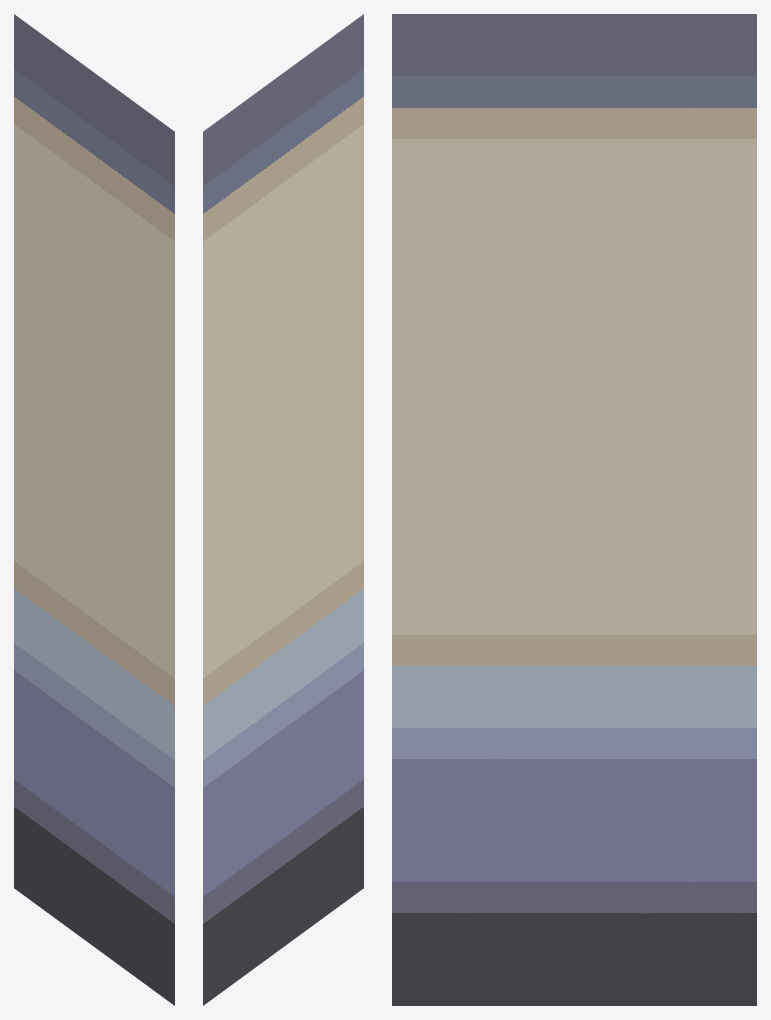
3 views of the same model, side by side, from view 1: azimuth 30°, elevation 25°; view 2: azimuth 150°, elevation 25°; view 3: azimuth 270°, elevation 25° (orthographic). The views are drawn at different scales.
Bounding box in the file's own units: 0 × 3 × 1.
1 material, 1 textured.
